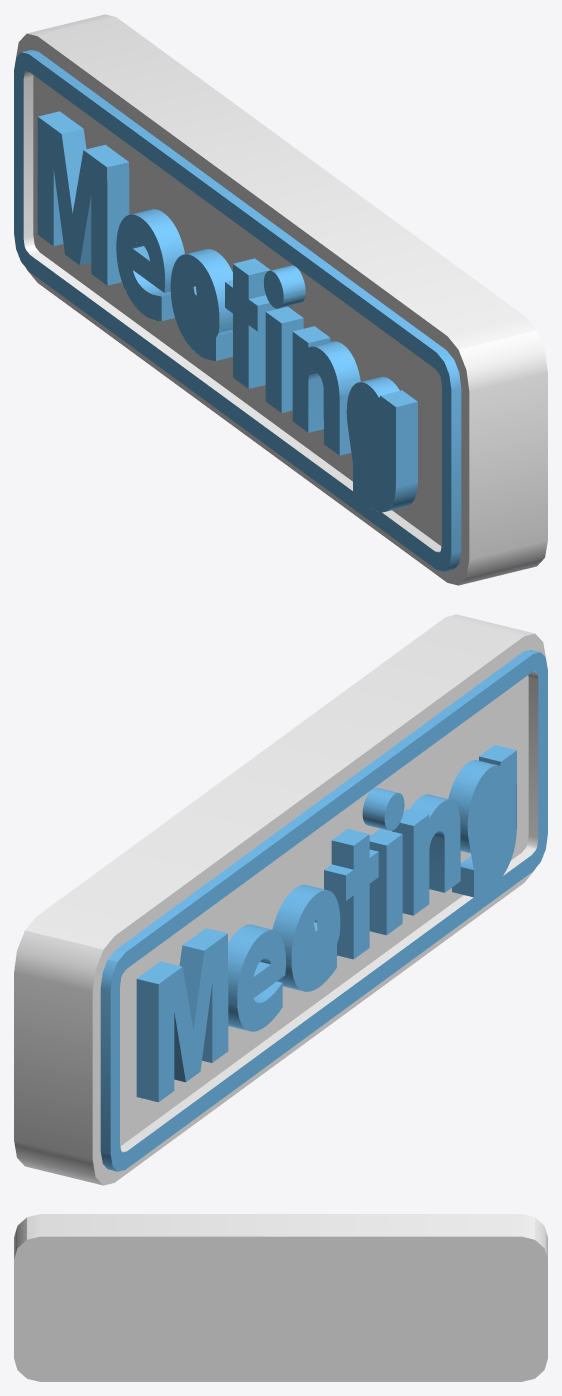
File: Props_Sign_Meeting.fbx
The picture shows the model from 3 angles, top to bottom: view 1: azimuth 30°, elevation 25°; view 2: azimuth 150°, elevation 25°; view 3: azimuth 270°, elevation 25°; orthographic projection. The views are drawn at different scales.
Parts seen in each view (by area): view 1: Props_Sign_Meeting; view 2: Props_Sign_Meeting; view 3: Props_Sign_Meeting.
Part boxes in pixels (box(x1,y1,x2,y2)): Props_Sign_Meeting: box(14, 14, 547, 585); Props_Sign_Meeting: box(14, 614, 547, 1185); Props_Sign_Meeting: box(14, 1214, 547, 1381).
Size of the model in its own units: 12.8 by 30 by 100.
